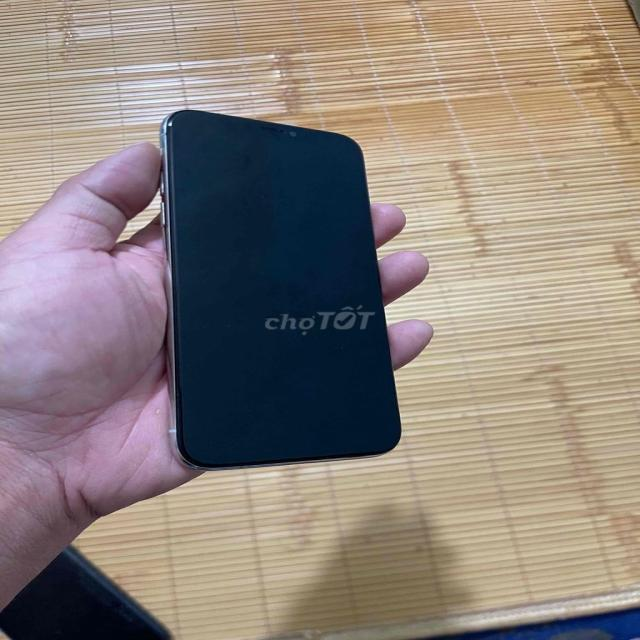gen_x_xs: (162, 111, 400, 469)
